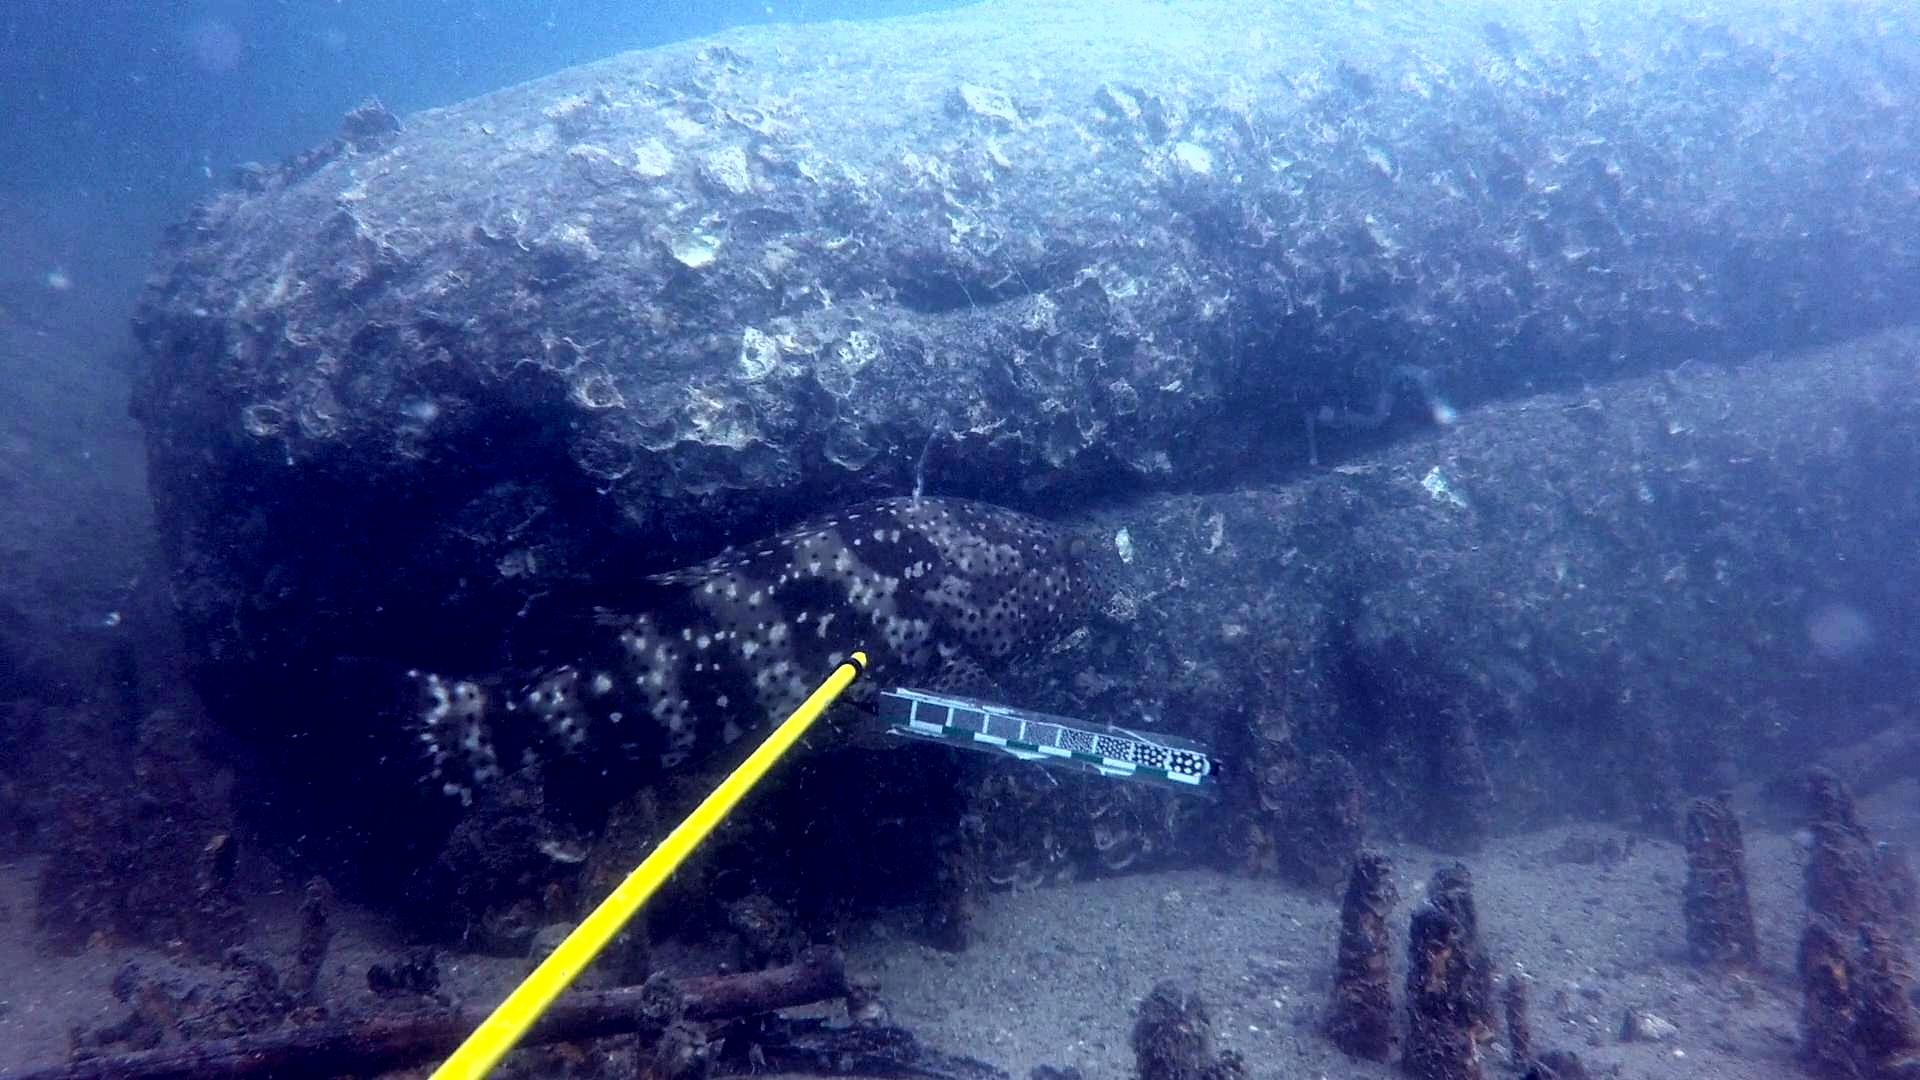epinephelus: (319, 489, 1127, 884)
